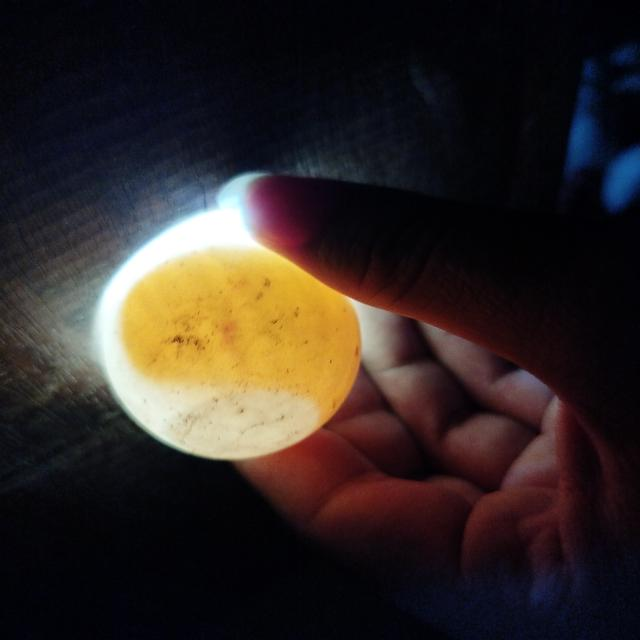Camara de Ar: (167, 388, 319, 458)
